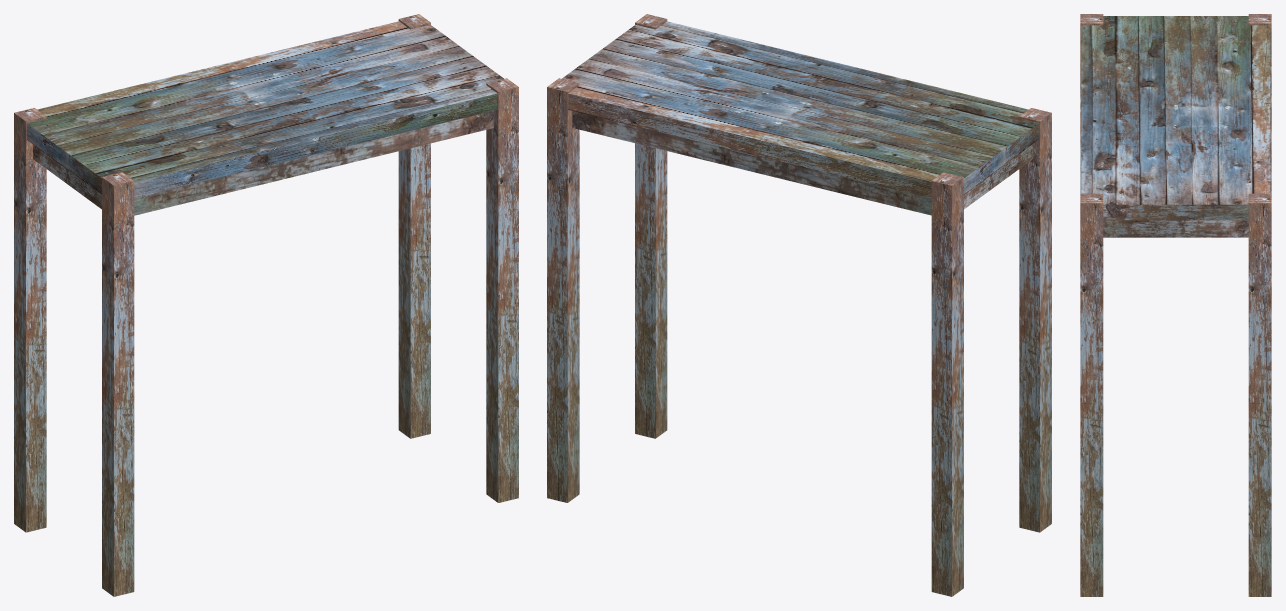
Rendered from table.glb.
The picture shows the model from 3 angles, left to right: view 1: azimuth 30°, elevation 25°; view 2: azimuth 150°, elevation 25°; view 3: azimuth 270°, elevation 25°; orthographic projection. The views are drawn at different scales.
Parts seen in each view (by area): view 1: Cube; view 2: Cube; view 3: Cube.
Part boxes in pixels (x1=…): Cube: x1=14, y1=14, x2=518, y2=596; Cube: x1=547, y1=14, x2=1051, y2=596; Cube: x1=1080, y1=14, x2=1271, y2=596.
Bounding box in the file's own units: 10.02 × 9.72 × 4.28.
Materials: 1 (1 with a texture image).
